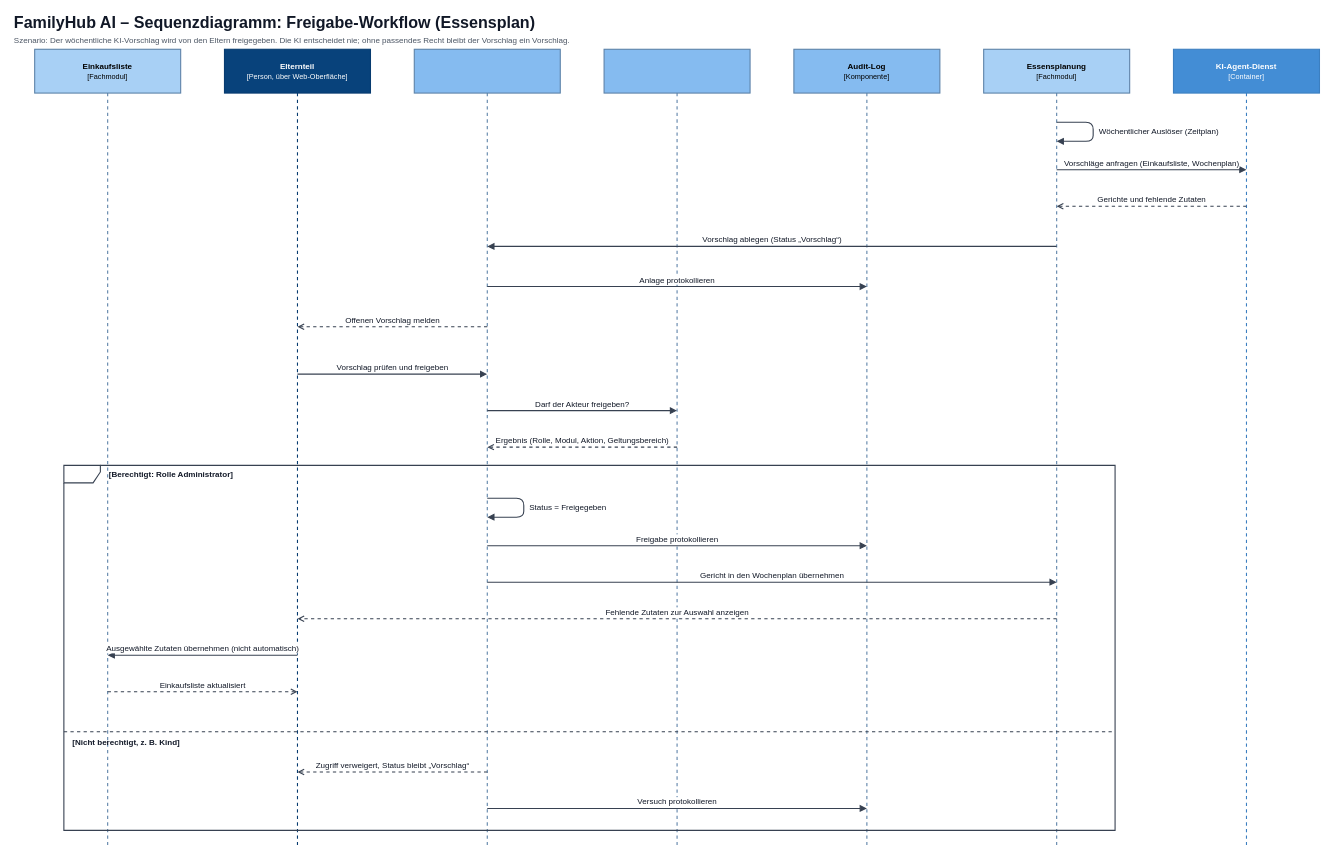
Some shapes in this 1332 by 858 pixel diagram are drawn without their labels. The shapes that lost their labels are listed below. From the top down, each one's box as (x1, y1, x2, y2) in pixels, then its label:
(413, 48, 560, 845): Freigabe-Workflow [Komponente]
(603, 48, 750, 845): Berechtigungsprüfer [Komponente]
(63, 464, 1115, 831): alt
